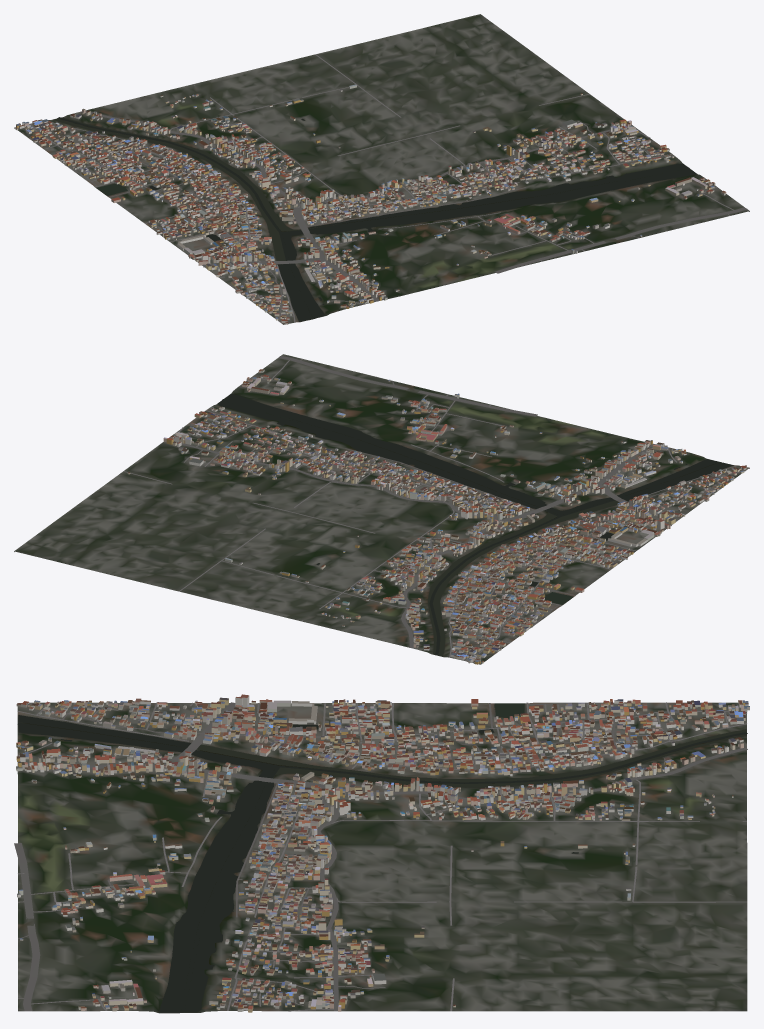
The picture shows the model from 3 angles, top to bottom: view 1: azimuth 30°, elevation 25°; view 2: azimuth 150°, elevation 25°; view 3: azimuth 270°, elevation 25°; orthographic projection. The views are drawn at different scales.
Visible parts, largest first — view 1: ground, buildings, water, roads; view 2: ground, buildings, water, roads; view 3: ground, buildings, water, roads.
Boxes of the visible parts, <box> form: ground: <box>14,14,749,324</box>; buildings: <box>15,84,726,324</box>; water: <box>52,117,697,321</box>; roads: <box>30,54,747,322</box>; ground: <box>14,354,749,664</box>; buildings: <box>127,369,746,664</box>; water: <box>217,393,733,656</box>; roads: <box>123,356,745,660</box>; ground: <box>17,702,747,1013</box>; buildings: <box>16,694,749,1012</box>; water: <box>17,703,747,1012</box>; roads: <box>14,702,747,1011</box>.
Size of the model in its own units: 1417 by 31.24 by 1415.
